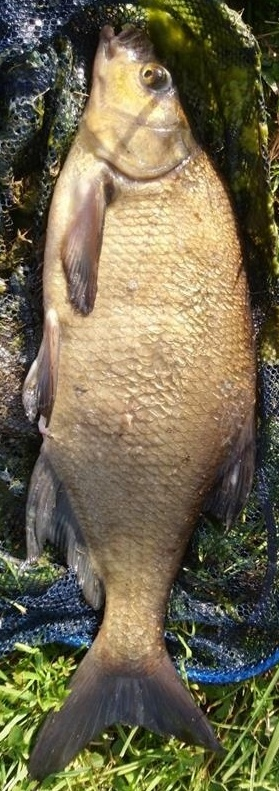Abramis brama: (20, 20, 259, 771)
